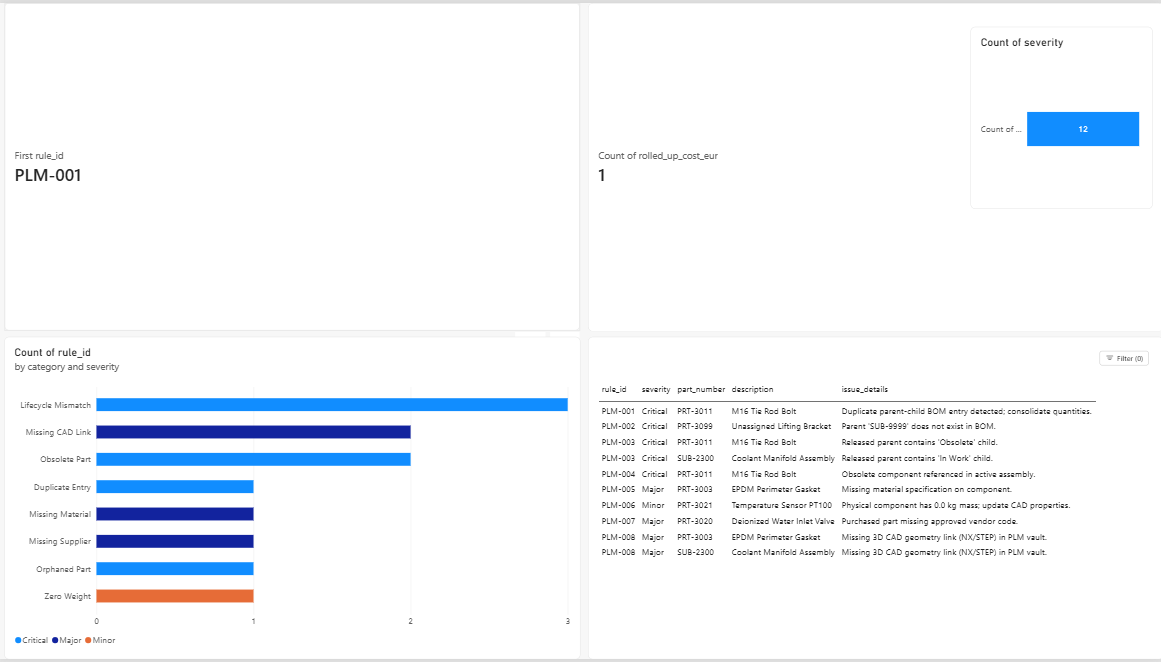

The dashboard page shown, as its layout file describes it:
{"tool":"powerbi","page":{"name":"Page 1","canvas":[1920,1080],"ordinal":0},"visuals":[{"type":"cardVisual","fields":{"Data":["Min(Validation_Errors.rule_id)"]},"box":[10.3,0,948.9,539.3],"z":0},{"type":"cardVisual","fields":{"Data":["CountNonNull(Assembly_Rollups.rolled_up_cost_eur)"]},"box":[971.5,0,948.9,541.3],"z":1},{"type":"barChart","fields":{"Category":["Validation_Errors.category"],"Series":["Validation_Errors.severity"],"Y":["CountNonNull(Validation_Errors.rule_id)"]},"box":[10,549,949,531],"z":2},{"type":"tableEx","fields":{"Values":["Validation_Errors.rule_id","Validation_Errors.severity","Validation_Errors.part_number","Validation_Errors.description","Validation_Errors.issue_details"]},"box":[972,549,948,531],"z":3},{"type":"funnel","fields":{"Y":["CountNonNull(Validation_Errors.severity)"]},"box":[1601.4,39.1,300,300],"z":4}]}

Visuals, with their boxes in screenshot pixels (x1, y1, x2, y2), scaled from the page's 1920x1080 canvas onto the 1161x662 screenshot:
cardVisual - Min(Validation_Errors.rule_id): 6, 0, 580, 331
cardVisual - CountNonNull(Assembly_Rollups.rolled_up_cost_eur): 587, 0, 1160, 332
barChart - Validation_Errors.category x Validation_Errors.severity: 6, 337, 580, 661
tableEx - Validation_Errors.rule_id x Validation_Errors.severity: 588, 337, 1160, 661
funnel - CountNonNull(Validation_Errors.severity): 968, 24, 1150, 208
